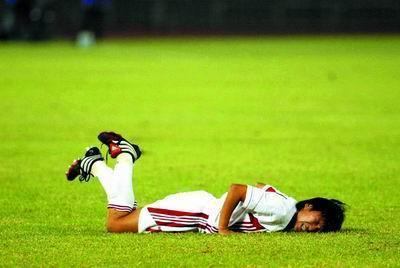Fall-Detected: (64, 121, 344, 236)
